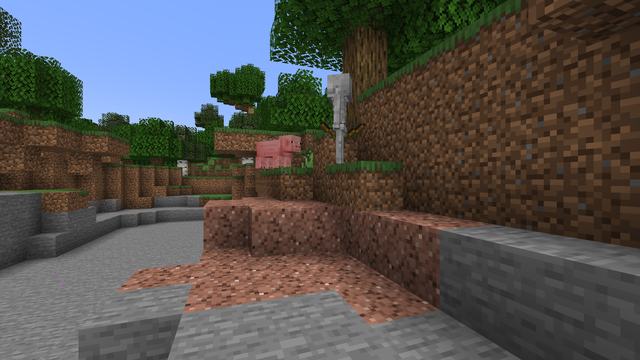cochons: (259, 138, 291, 168)
squelettes: (323, 71, 357, 163)
